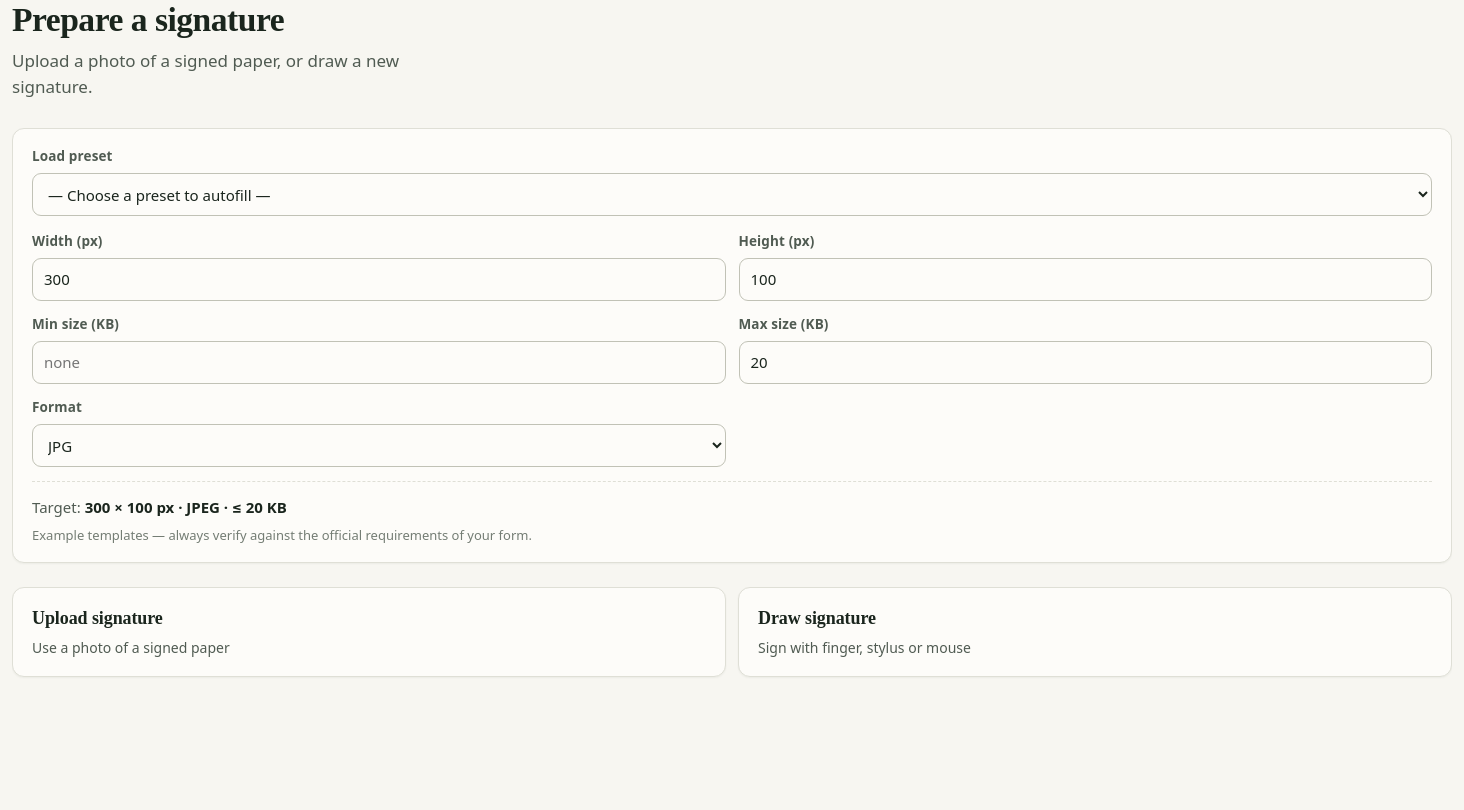
Test: SignatureView flow › supports undo back to an empty canvas
Click the button "Draw signature Sign with finger, stylus or mouse". click: click(817, 618)
box: [738,587,1452,677]
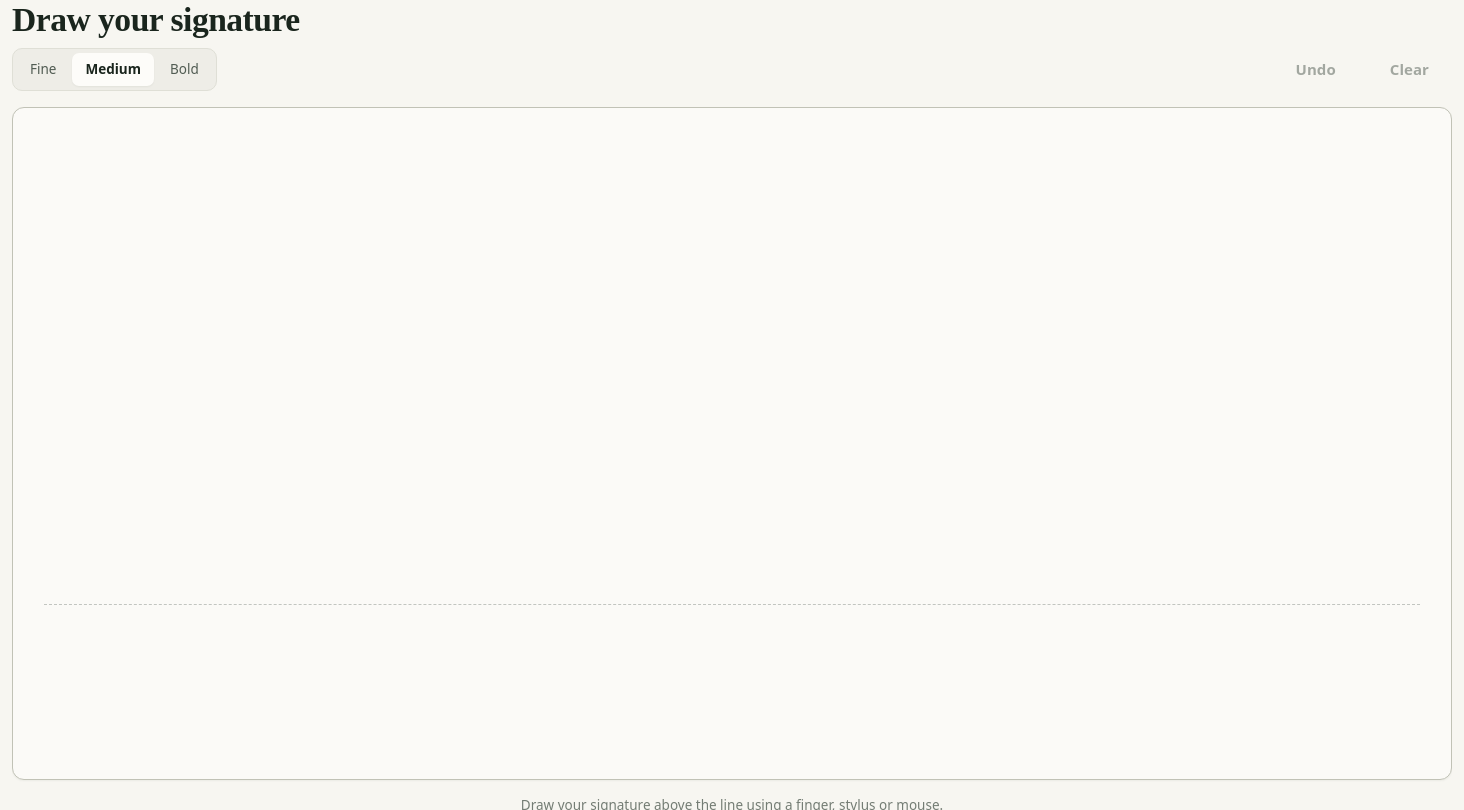
Press the mouse on the drawing named "signature drawing area" at (732, 443), box [12,107,1452,780]
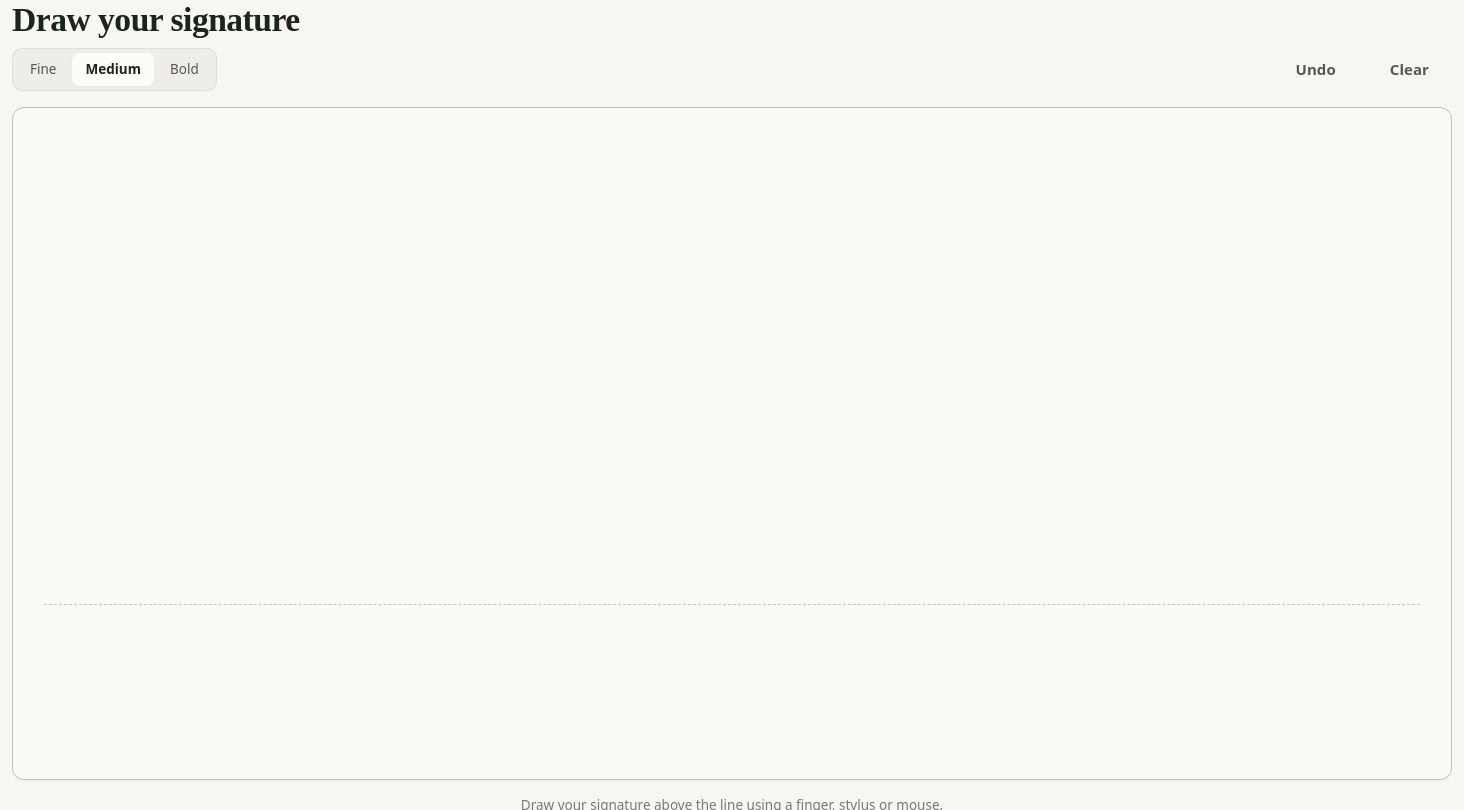
Click the button "Undo". click: click(1316, 70)
box: [1272,48,1359,92]
(page scrolled)
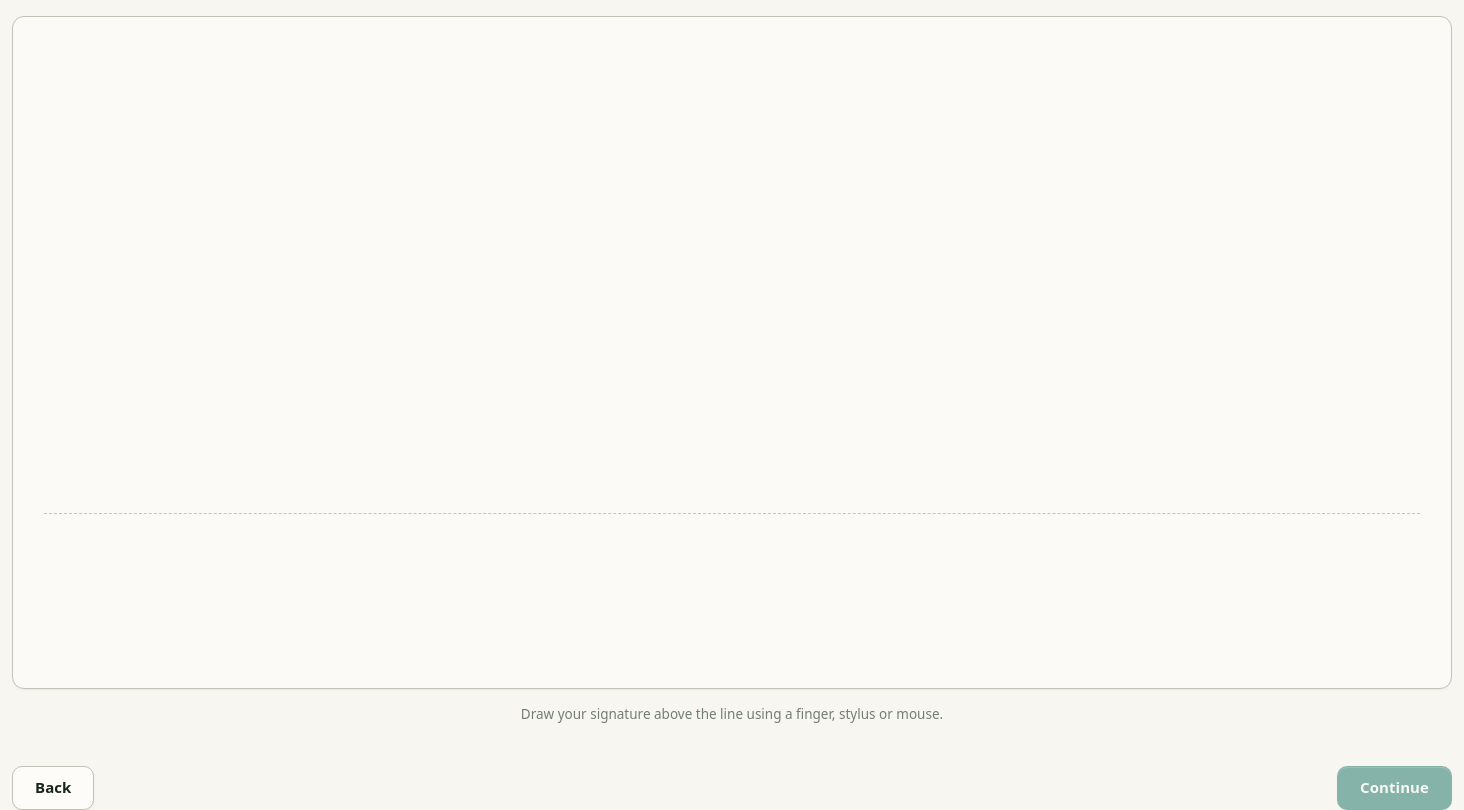
Check: the button "Continue" is disabled, box [1337,766,1452,809]
